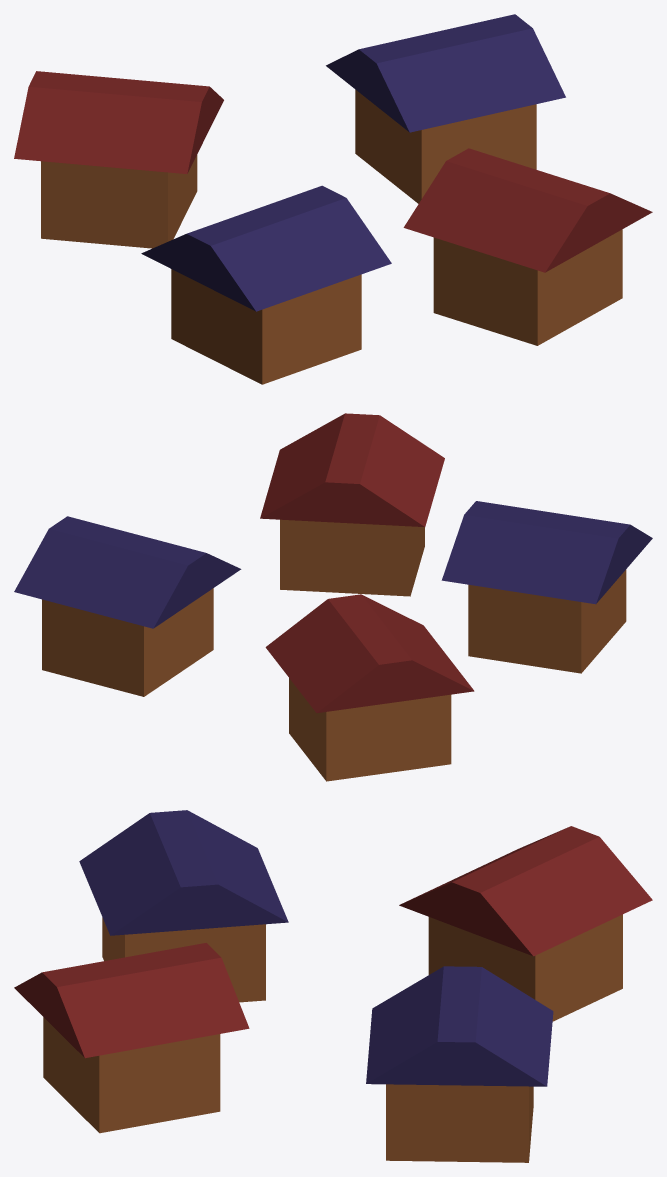
Rendered from tile_house_simple.fbx.
The picture shows the model from 3 angles, top to bottom: view 1: azimuth 30°, elevation 25°; view 2: azimuth 150°, elevation 25°; view 3: azimuth 270°, elevation 25°; orthographic projection. The views are drawn at different scales.
Parts seen in each view (by area): view 1: House.001, House.002, House, House.003; view 2: House, House.003, House.002, House.001; view 3: House.002, House.003, House, House.001.
Boxes of the visible parts, x1=… form: House.001: x1=141, y1=185, x2=391, y2=384; House.002: x1=403, y1=148, x2=652, y2=345; House: x1=14, y1=71, x2=223, y2=248; House.003: x1=326, y1=14, x2=565, y2=203; House: x1=265, y1=594, x2=474, y2=781; House.003: x1=14, y1=516, x2=241, y2=696; House.002: x1=260, y1=413, x2=444, y2=596; House.001: x1=441, y1=501, x2=652, y2=673; House.002: x1=14, y1=943, x2=249, y2=1133; House.003: x1=366, y1=966, x2=553, y2=1162; House: x1=399, y1=826, x2=652, y2=1021; House.001: x1=79, y1=810, x2=288, y2=1002.
Size of the model in its own units: 2.37 by 0.6 by 2.68.
